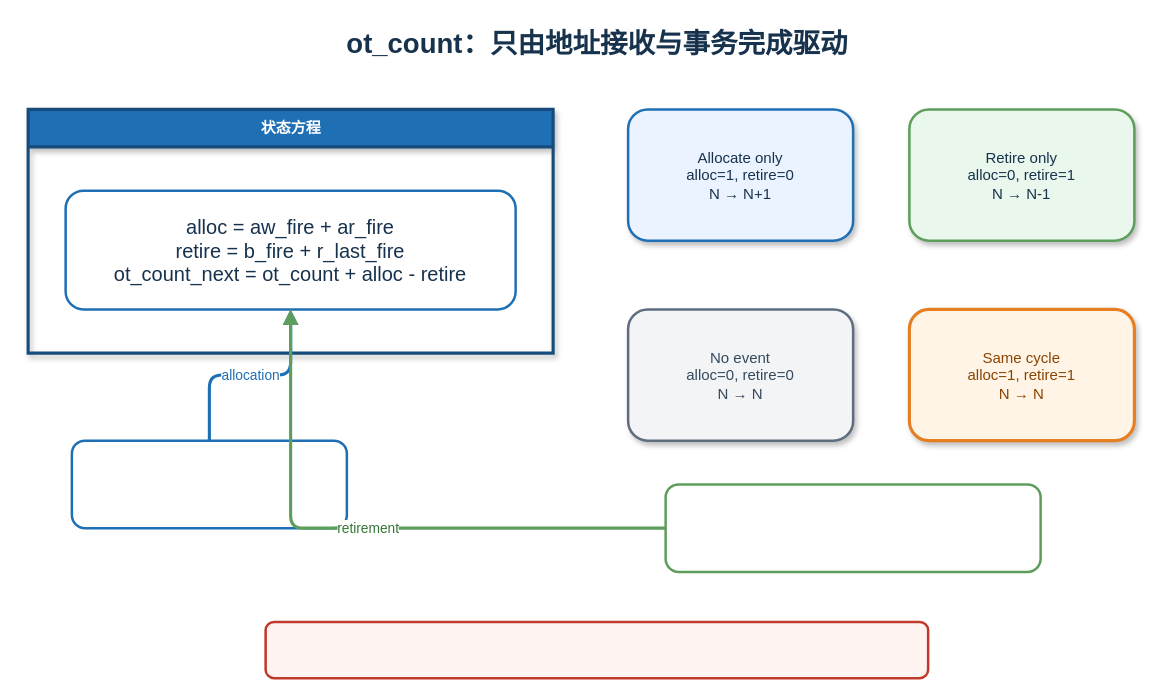
This 1165x700 diagram has some shape labels left out. The centre of each missing label's shape, as x and y in pixels:
"AWVALID && AWREADY or ARVALID && ARREADY" belongs at point (209, 484).
"BVALID && BREADY or RVALID && RREADY && RLAST" belongs at point (852, 527).
"DV check: sample all four combinations at the same clock edge." belongs at point (596, 649).
